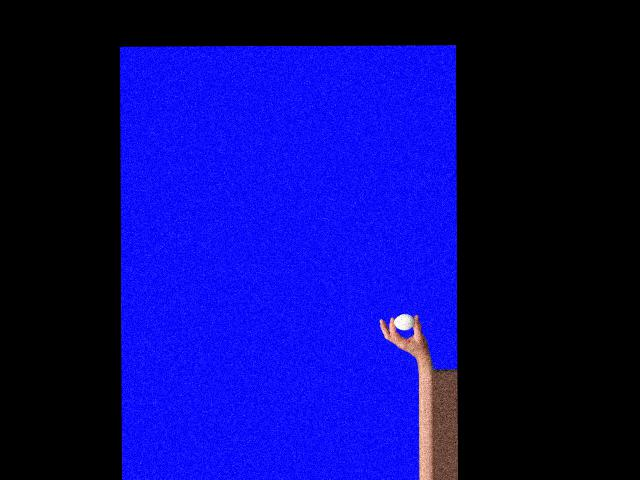egg: (394, 313, 414, 330)
